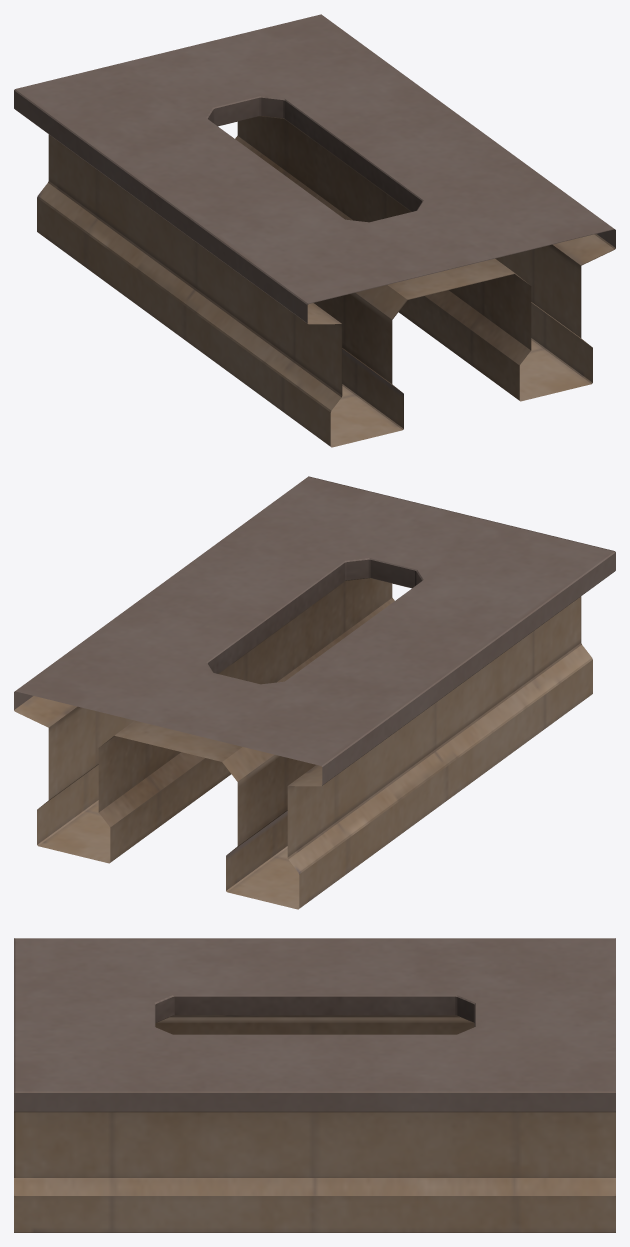
File: general_beam_hole.obj
The picture shows the model from 3 angles, top to bottom: view 1: azimuth 30°, elevation 25°; view 2: azimuth 150°, elevation 25°; view 3: azimuth 270°, elevation 25°; orthographic projection. The views are drawn at different scales.
Visible parts, largest first — view 1: general_beam_hole; view 2: general_beam_hole; view 3: general_beam_hole.
Boxes of the visible parts, left/top/right/bottom form: general_beam_hole: left=14, top=14, right=615, bottom=447; general_beam_hole: left=14, top=476, right=615, bottom=909; general_beam_hole: left=14, top=938, right=615, bottom=1232.
Size of the model in its own units: 2.5 by 1.16 by 4.12.
2 materials, 2 textured.
